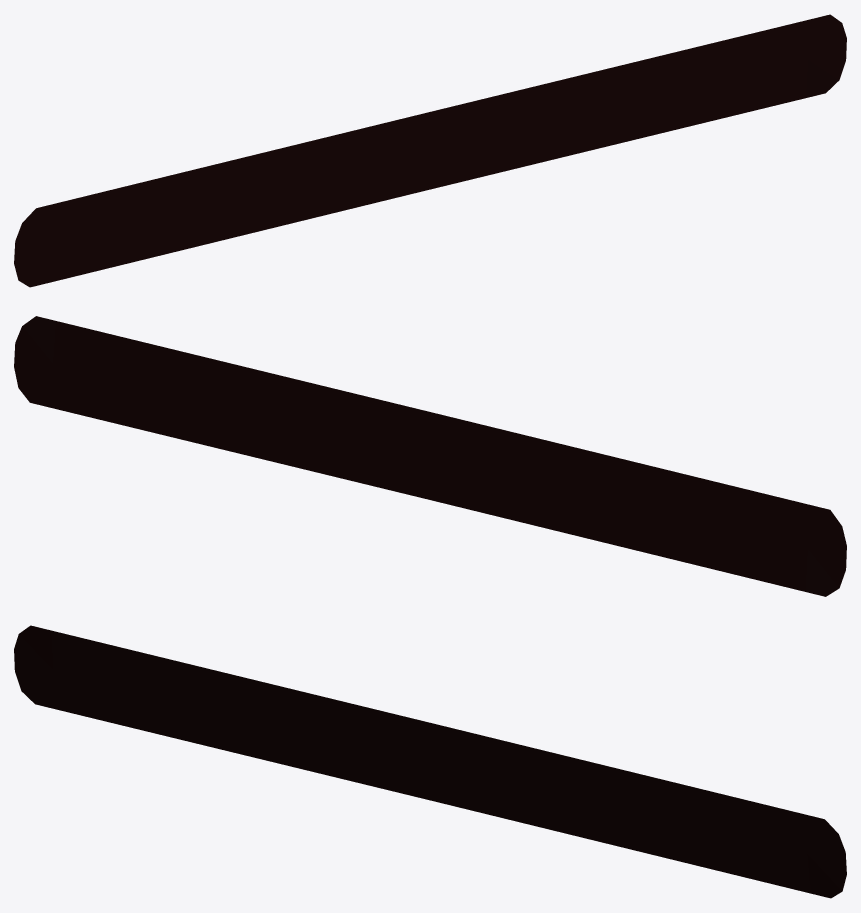
The model's file is mouth_npc.glb.
The picture shows the model from 3 angles, top to bottom: view 1: azimuth 30°, elevation 25°; view 2: azimuth 150°, elevation 25°; view 3: azimuth 330°, elevation 25°; orthographic projection.
Parts seen in each view (by area): view 1: mouth_npc; view 2: mouth_npc; view 3: mouth_npc.
Part boxes in pixels (bbox=[...]): mouth_npc: bbox=[14, 14, 846, 287]; mouth_npc: bbox=[14, 316, 846, 596]; mouth_npc: bbox=[14, 625, 846, 898].
Size of the model in its own units: 0.1146 by 0.011 by 0.00128.
